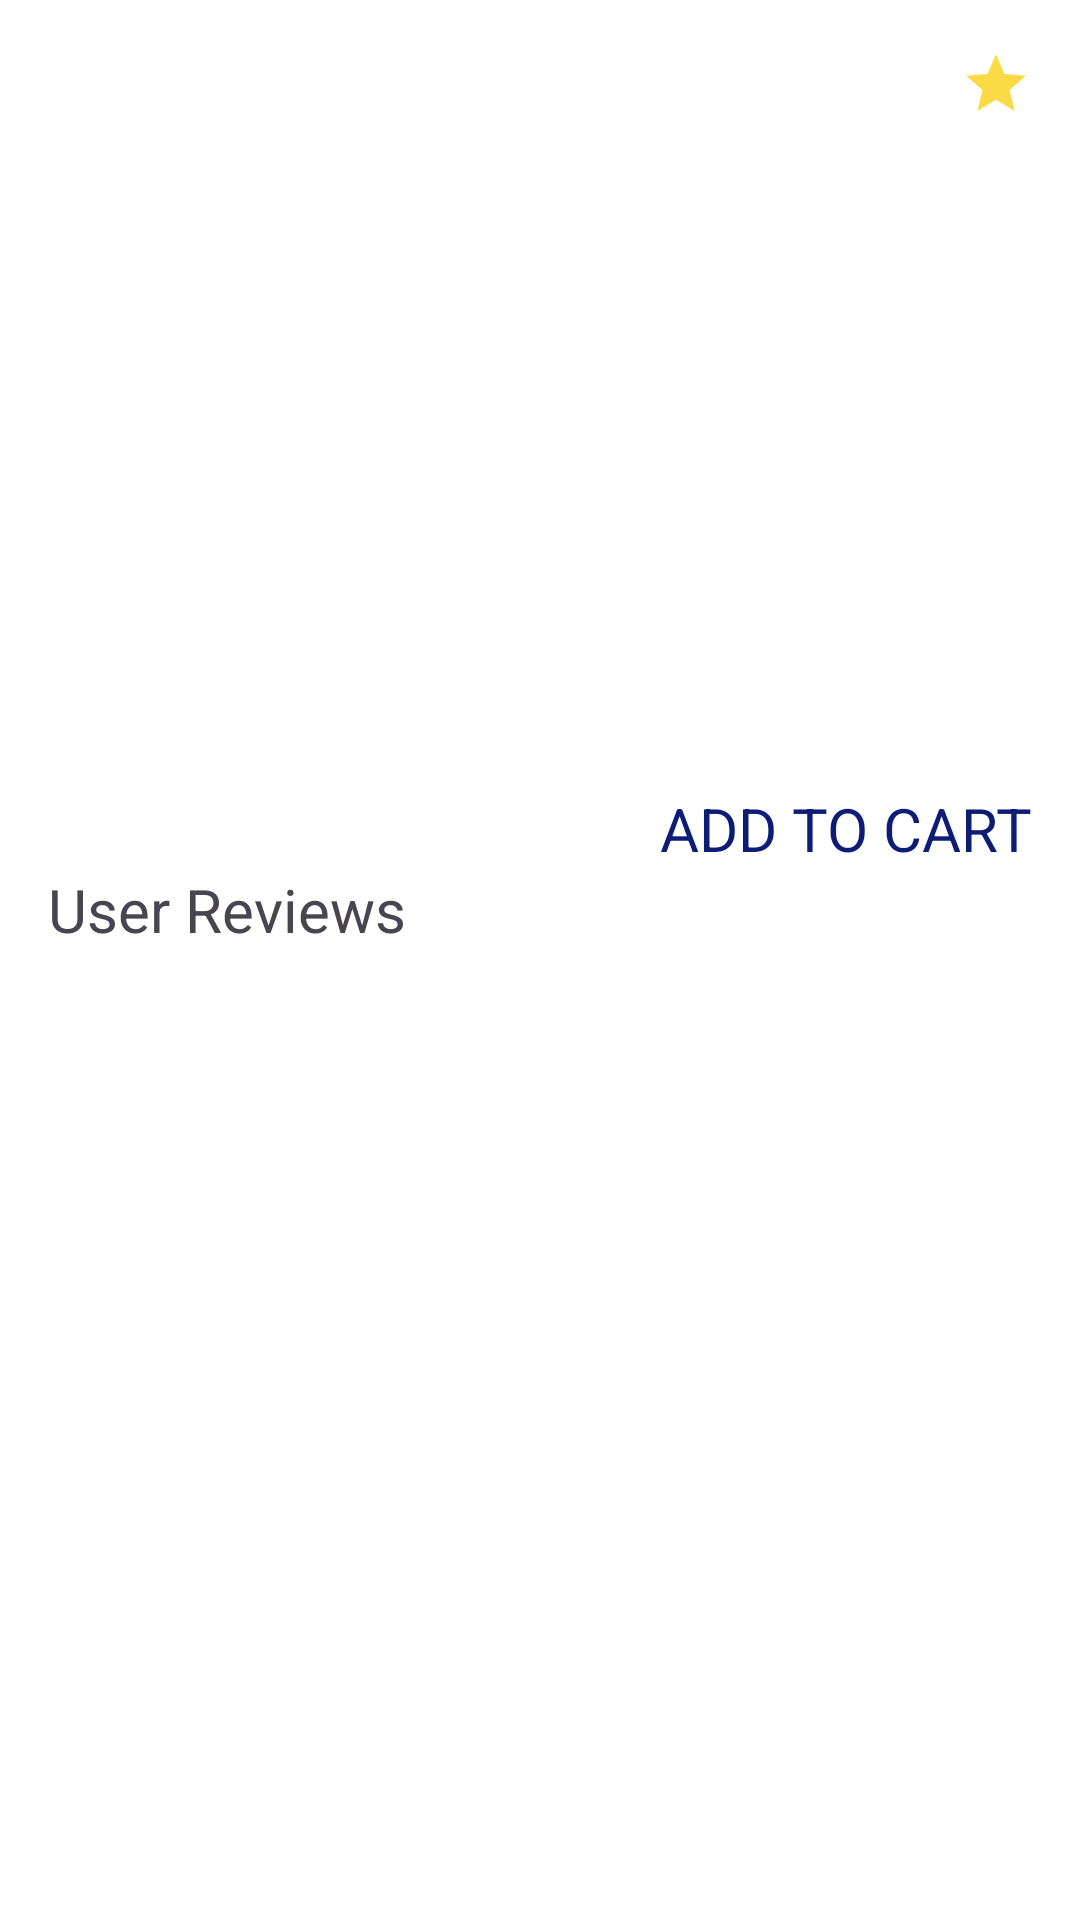

Locate icon controls on the screen. Image size 1080w x 1920h, boxes as [left=x1, top=y1, right=x2, bottom=y2].
star: [left=966, top=54, right=1026, bottom=111]
